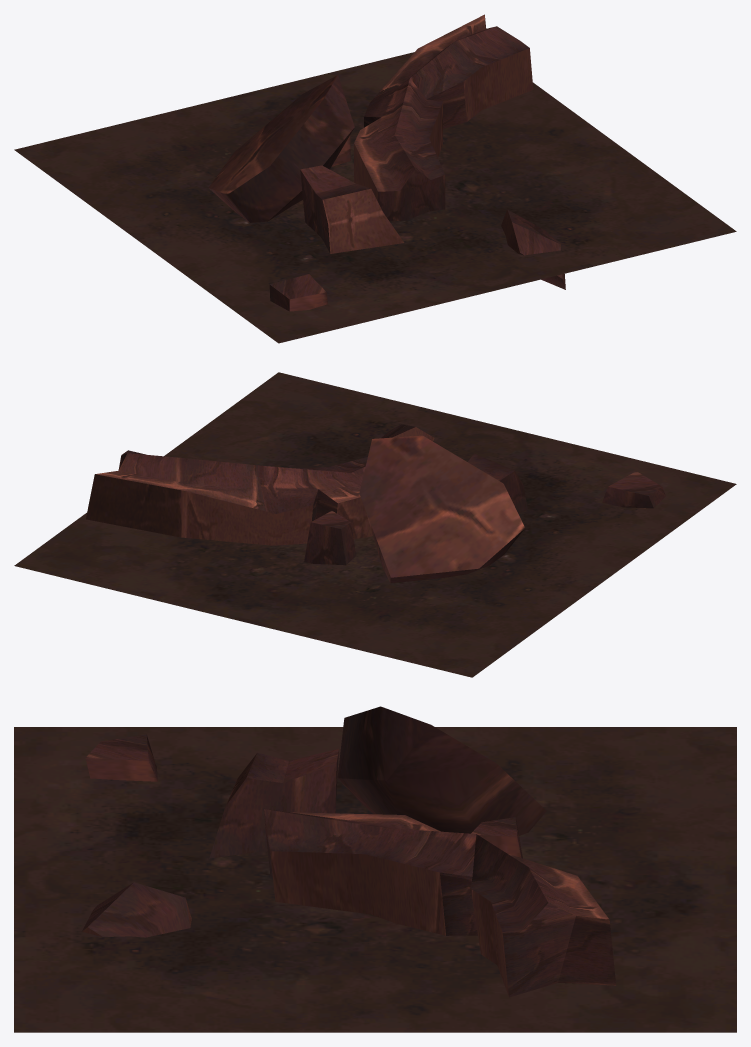
File: lava_rubble_04.fbx
3 views of the same model, one above another, from view 1: azimuth 30°, elevation 25°; view 2: azimuth 150°, elevation 25°; view 3: azimuth 270°, elevation 25° (orthographic). The views are drawn at different scales.
Visible parts, largest first — view 1: lava_rubble_04-0; view 2: lava_rubble_04-0; view 3: lava_rubble_04-0.
Part boxes in pixels (left/top/right/bottom): lava_rubble_04-0: left=14, top=14, right=736, bottom=343; lava_rubble_04-0: left=14, top=372, right=736, bottom=677; lava_rubble_04-0: left=14, top=706, right=736, bottom=1032.
Size of the model in its own units: 4 by 1.21 by 4.
